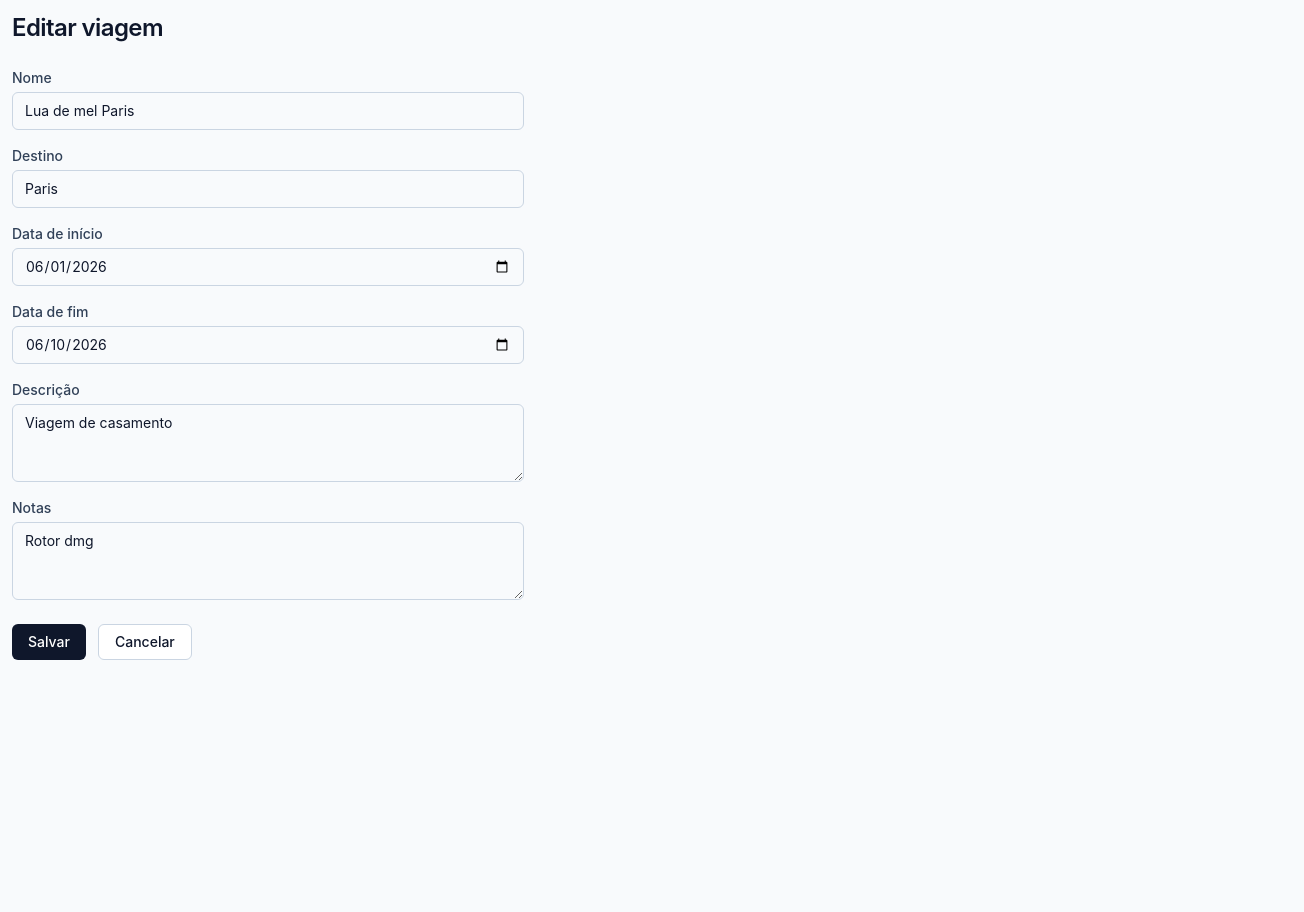
Test: TripEditPage › success navigates to /trips/:id
This screenshot has width=1304, height=912.
Expected: the field labelled "Nome" is shown, [12,92,524,130]
Click the button "Salvar" at coordinates (49, 642), box [12,624,86,660]
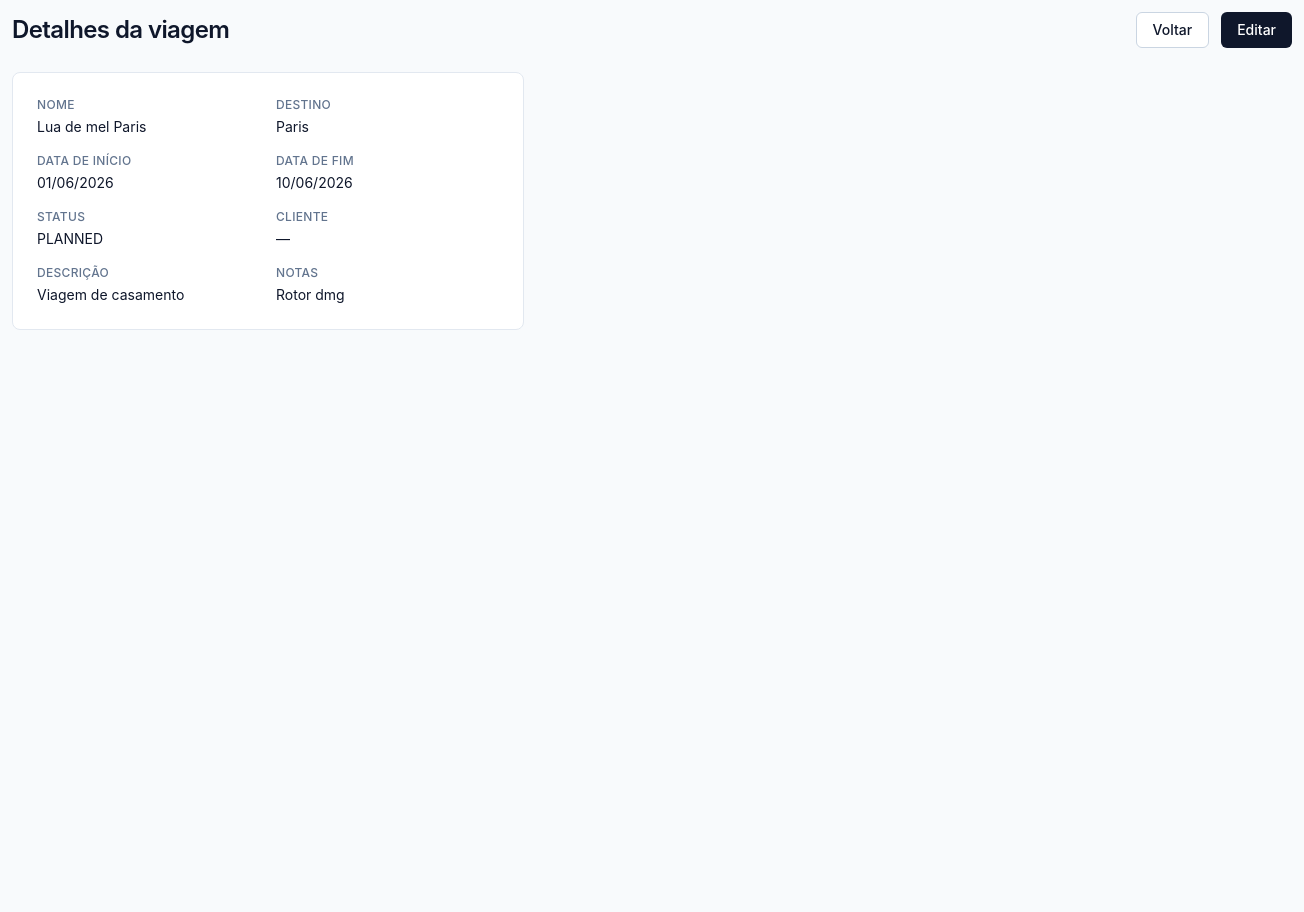
Expected: the heading "Detalhes da viagem" is shown, [12,14,229,46]
